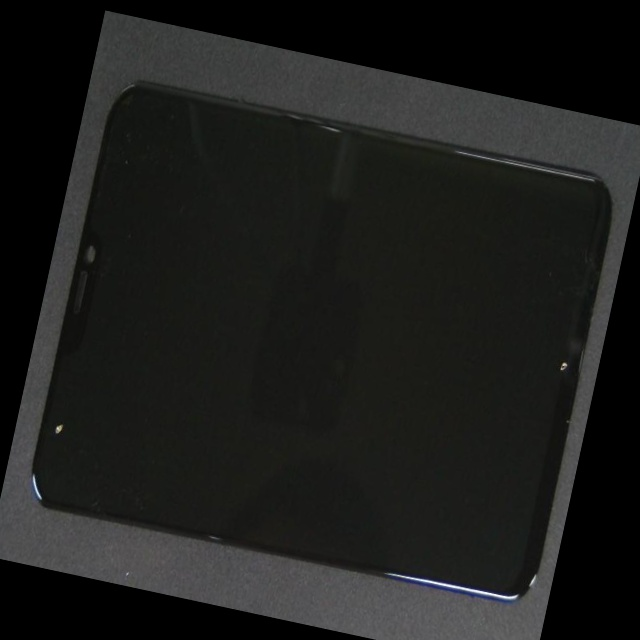stain: (0, 180, 114, 566)
